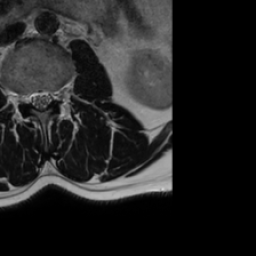CCS_normal: (37, 82, 45, 118)
LFS_normal: (53, 81, 62, 110)
LLS_normal: (45, 81, 53, 112)
RFS_normal: (21, 83, 29, 112)
RLS_normal: (29, 83, 37, 112)
